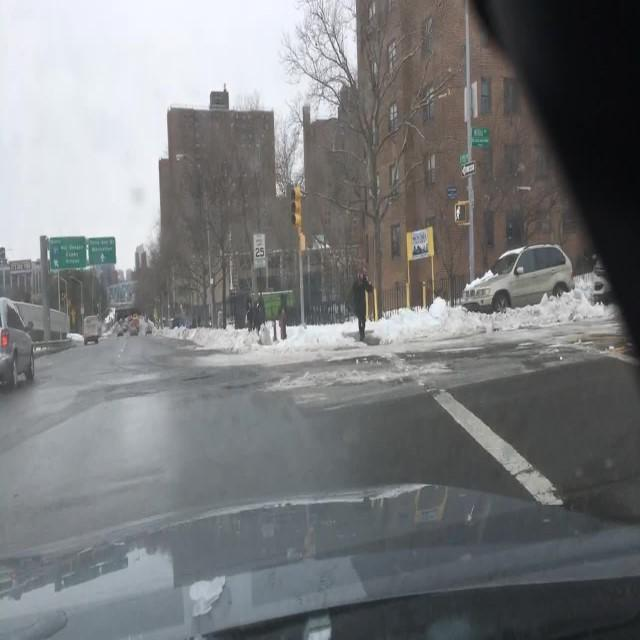single accident: (445, 226, 581, 329)
